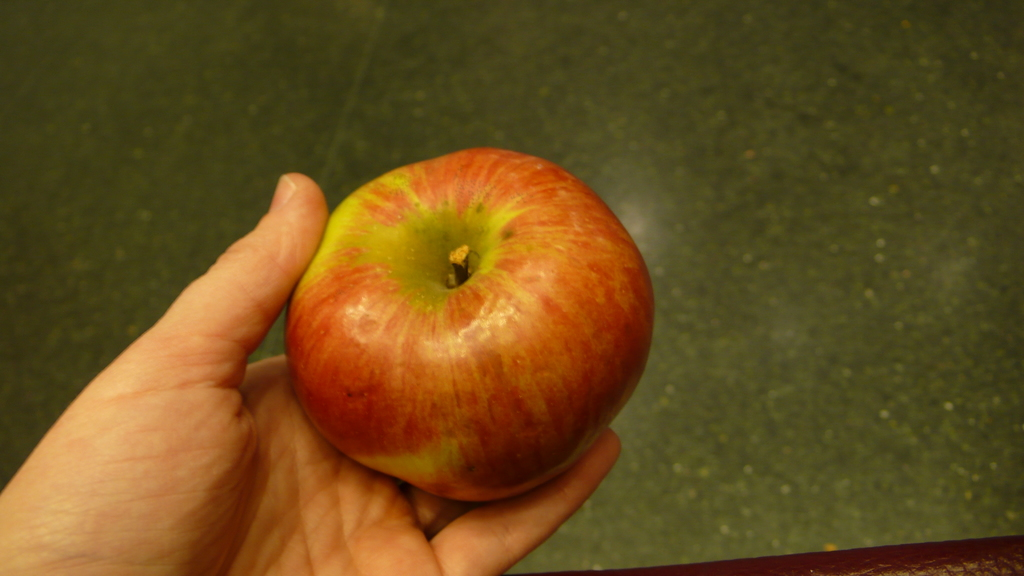Apple: (283, 144, 651, 502)
